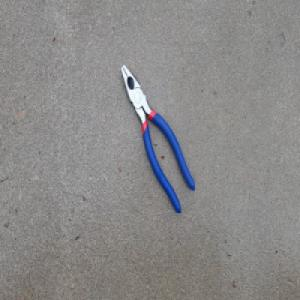Pliers: (118, 65, 195, 217)
